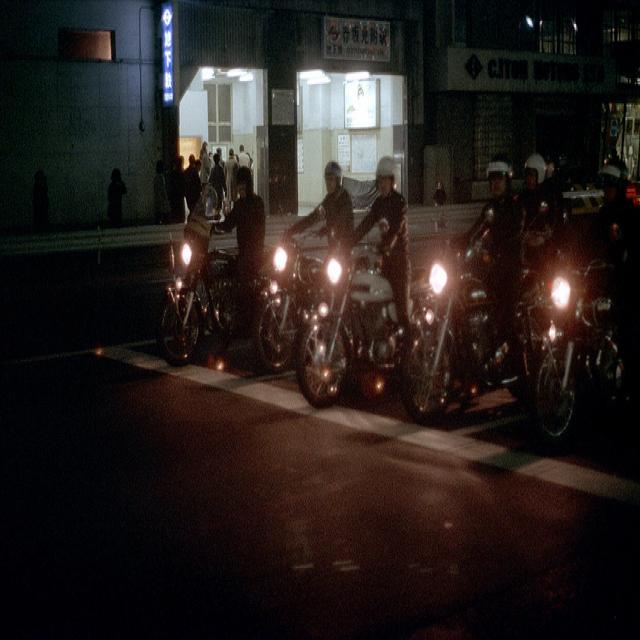Motorbike: (172, 171, 640, 501)
